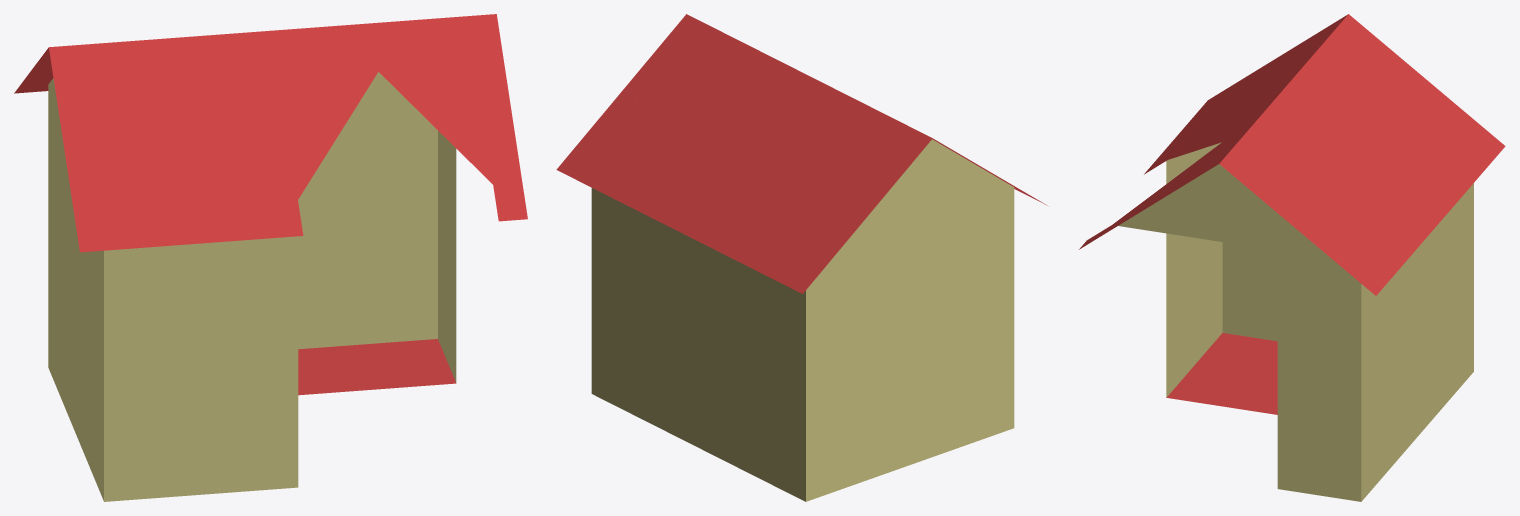
The picture shows the model from 3 angles, left to right: view 1: azimuth 30°, elevation 25°; view 2: azimuth 150°, elevation 25°; view 3: azimuth 270°, elevation 25°; orthographic projection. The views are drawn at different scales.
Bounding box in the file's own units: 14.1 × 13 × 10.98.
